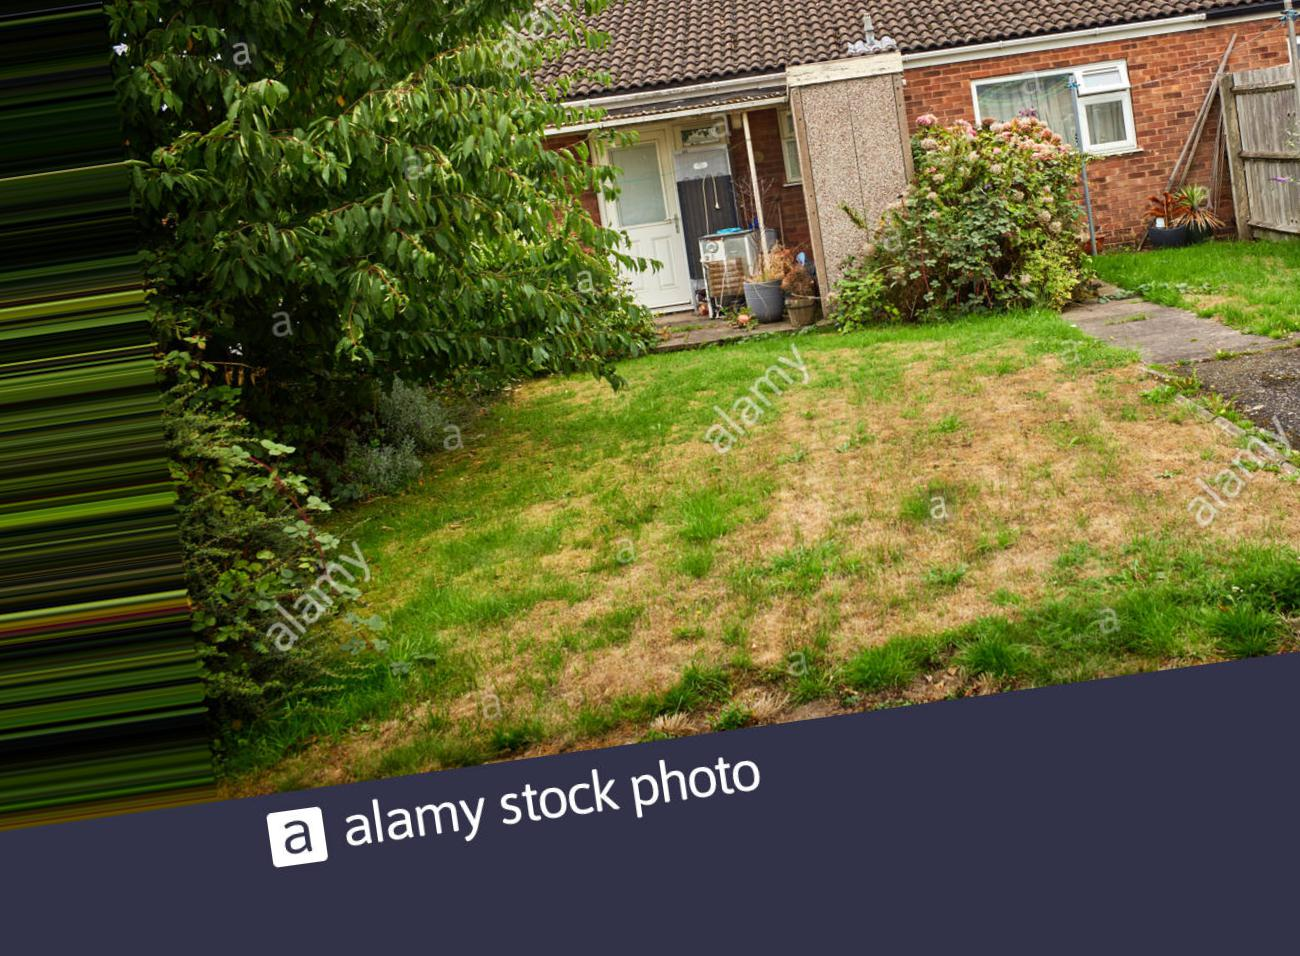patch: (977, 371, 1137, 486), (805, 426, 887, 481), (1037, 491, 1117, 543), (917, 558, 985, 601)
